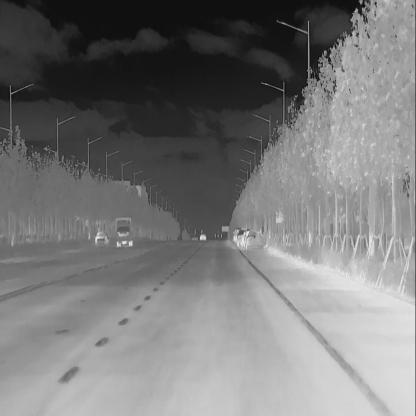car: (242, 230, 264, 248), (94, 230, 110, 245), (235, 228, 247, 248), (232, 226, 244, 243), (199, 231, 207, 241)
truck: (114, 216, 134, 248)
